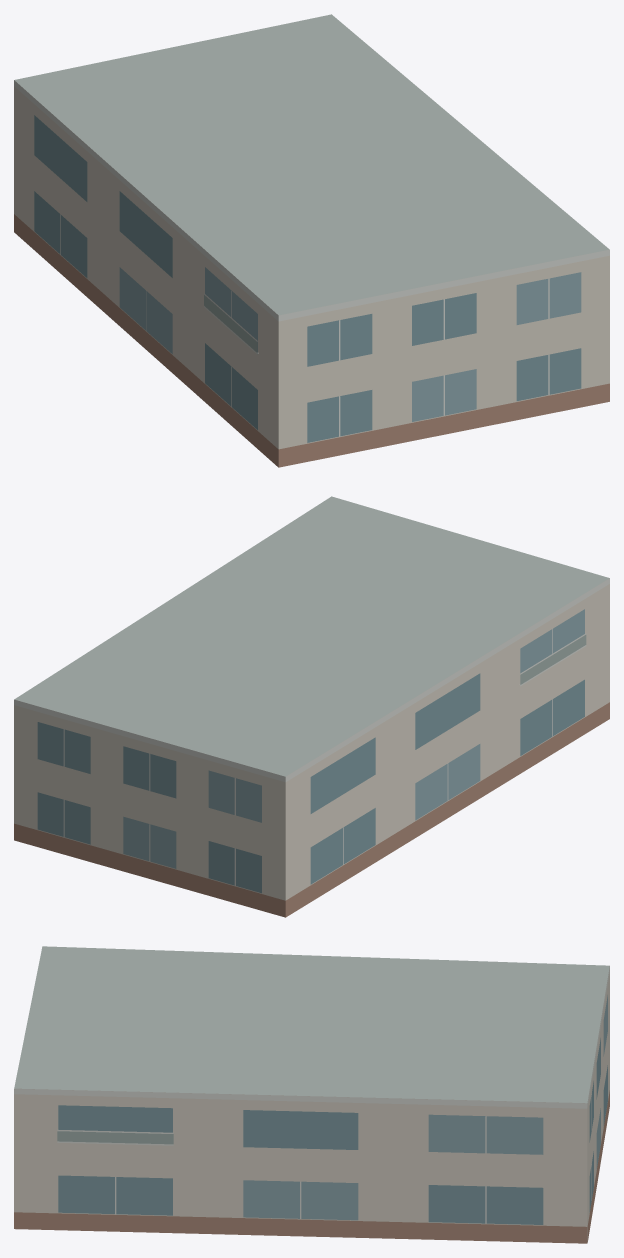
Rendered from survey-upis-32668550.glb.
3 views of the same model, one above another, from view 1: azimuth 30°, elevation 25°; view 2: azimuth 150°, elevation 25°; view 3: azimuth 270°, elevation 25° (orthographic). The views are drawn at different scales.
Parts seen in each view (by area): view 1: survey-upis-32668550.tmp; view 2: survey-upis-32668550.tmp; view 3: survey-upis-32668550.tmp.
Boxes of the visible parts, x1,y1,x2,y2 form: survey-upis-32668550.tmp: (14,14,609,467); survey-upis-32668550.tmp: (14,496,609,917); survey-upis-32668550.tmp: (14,946,609,1243).
Bounding box in the file's own units: 14.63 × 6.1 × 23.46.
